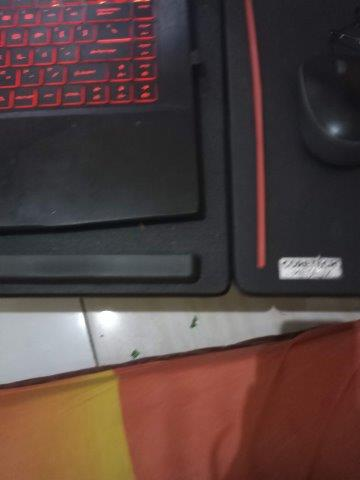sedotan: (244, 1, 267, 267)
